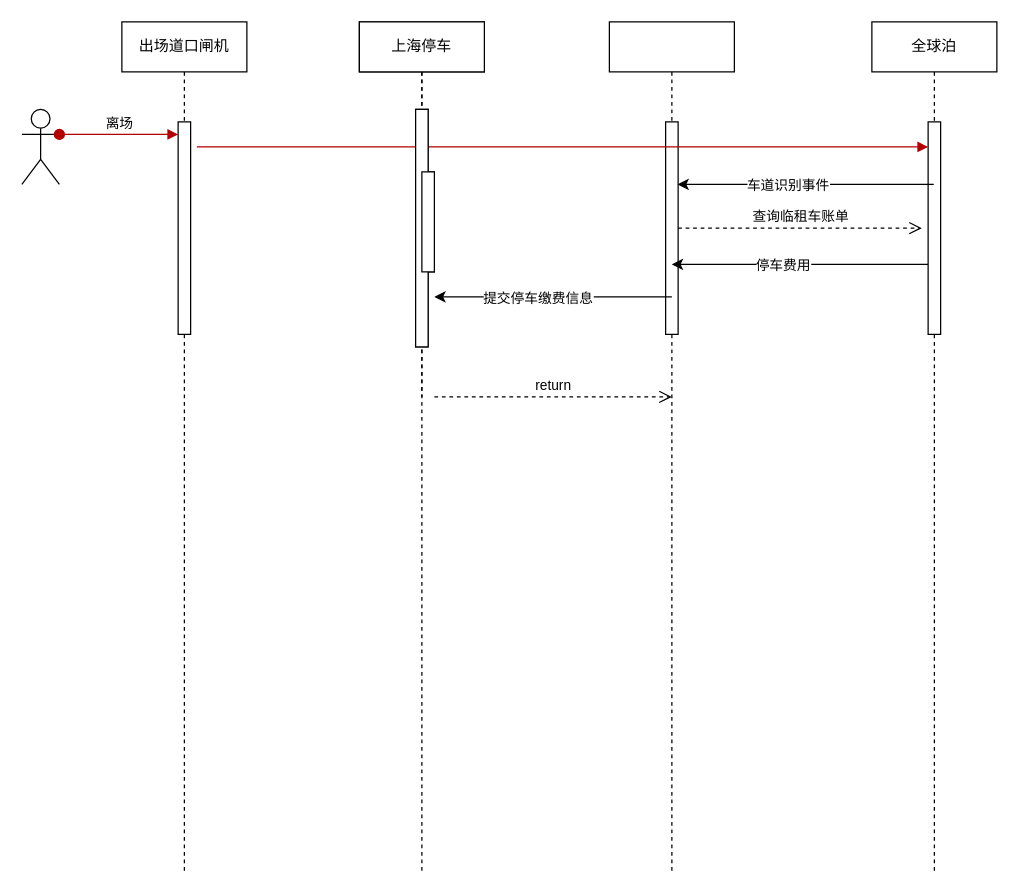
Image size: 1019x894. Some labels were removed from this diagram. The box of each missing label's shape, as (x1, y1, x2, y2) in pixels:
Actor: (21, 108, 59, 184)
泉球泊: (608, 21, 734, 872)
